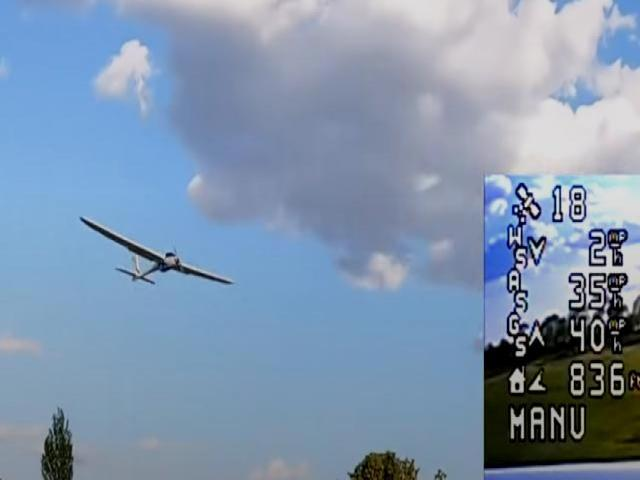iha: (80, 214, 234, 292)
